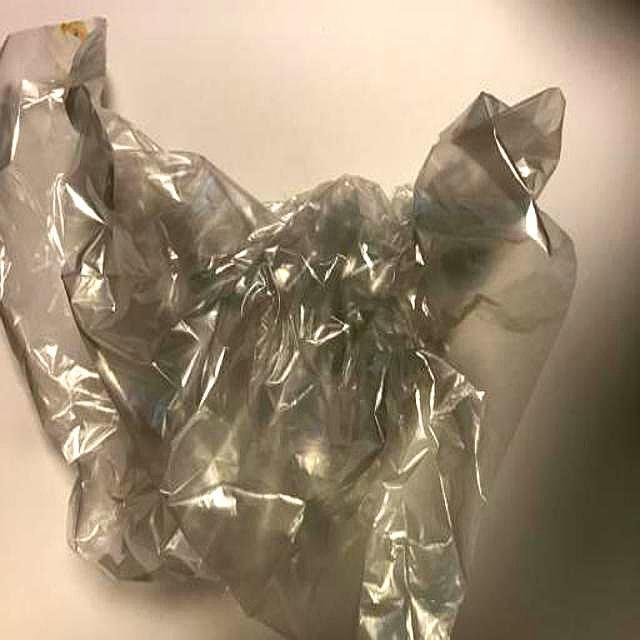Non-biodegradable: (3, 16, 582, 638)
